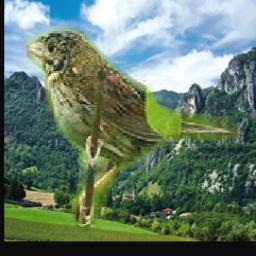Sparrow: (27, 27, 239, 233)
